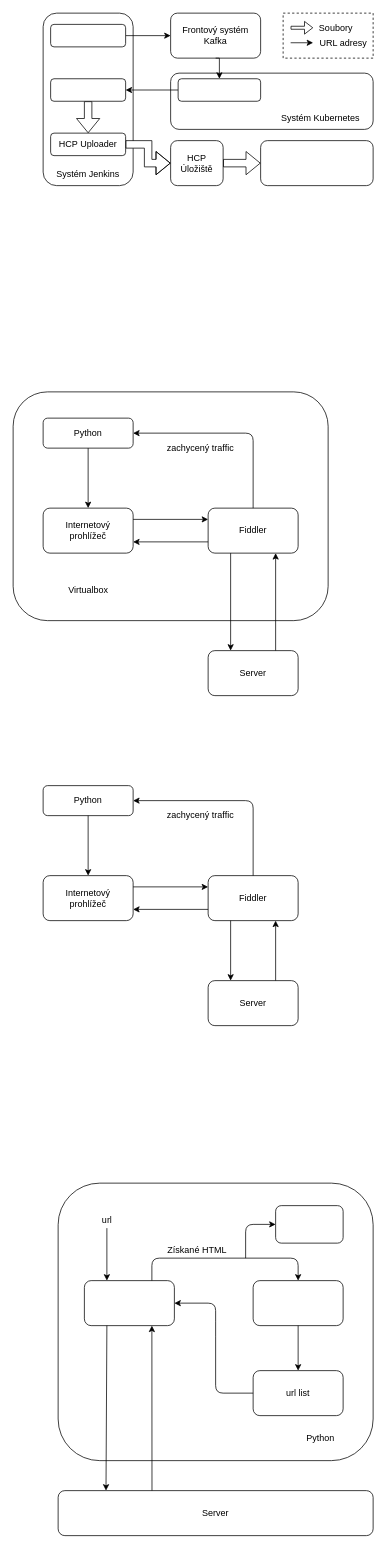
The diagram is 386 pixels wide and 1549 high, and some of its shapes have lost their labels. The shapes that lost their labels are listed below. From the top down, each one's centre as x and y in pixels, then its label:
At point 88,35: "Kafka Producer".
At point 88,89: "Data Downloader".
At point 219,89: "Kafka Consumer".
At point 316,163: "Scavenger".
At point 309,1224: "Výstup".
At point 129,1303: "Requests".
At point 297,1303: "Parser".
